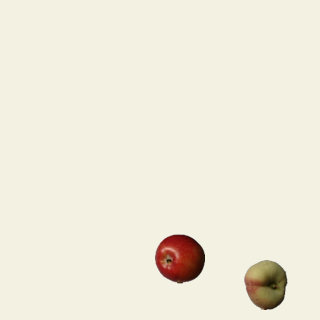Apple Braeburn: (154, 233, 204, 283)
Peach Flat: (240, 259, 290, 309)
